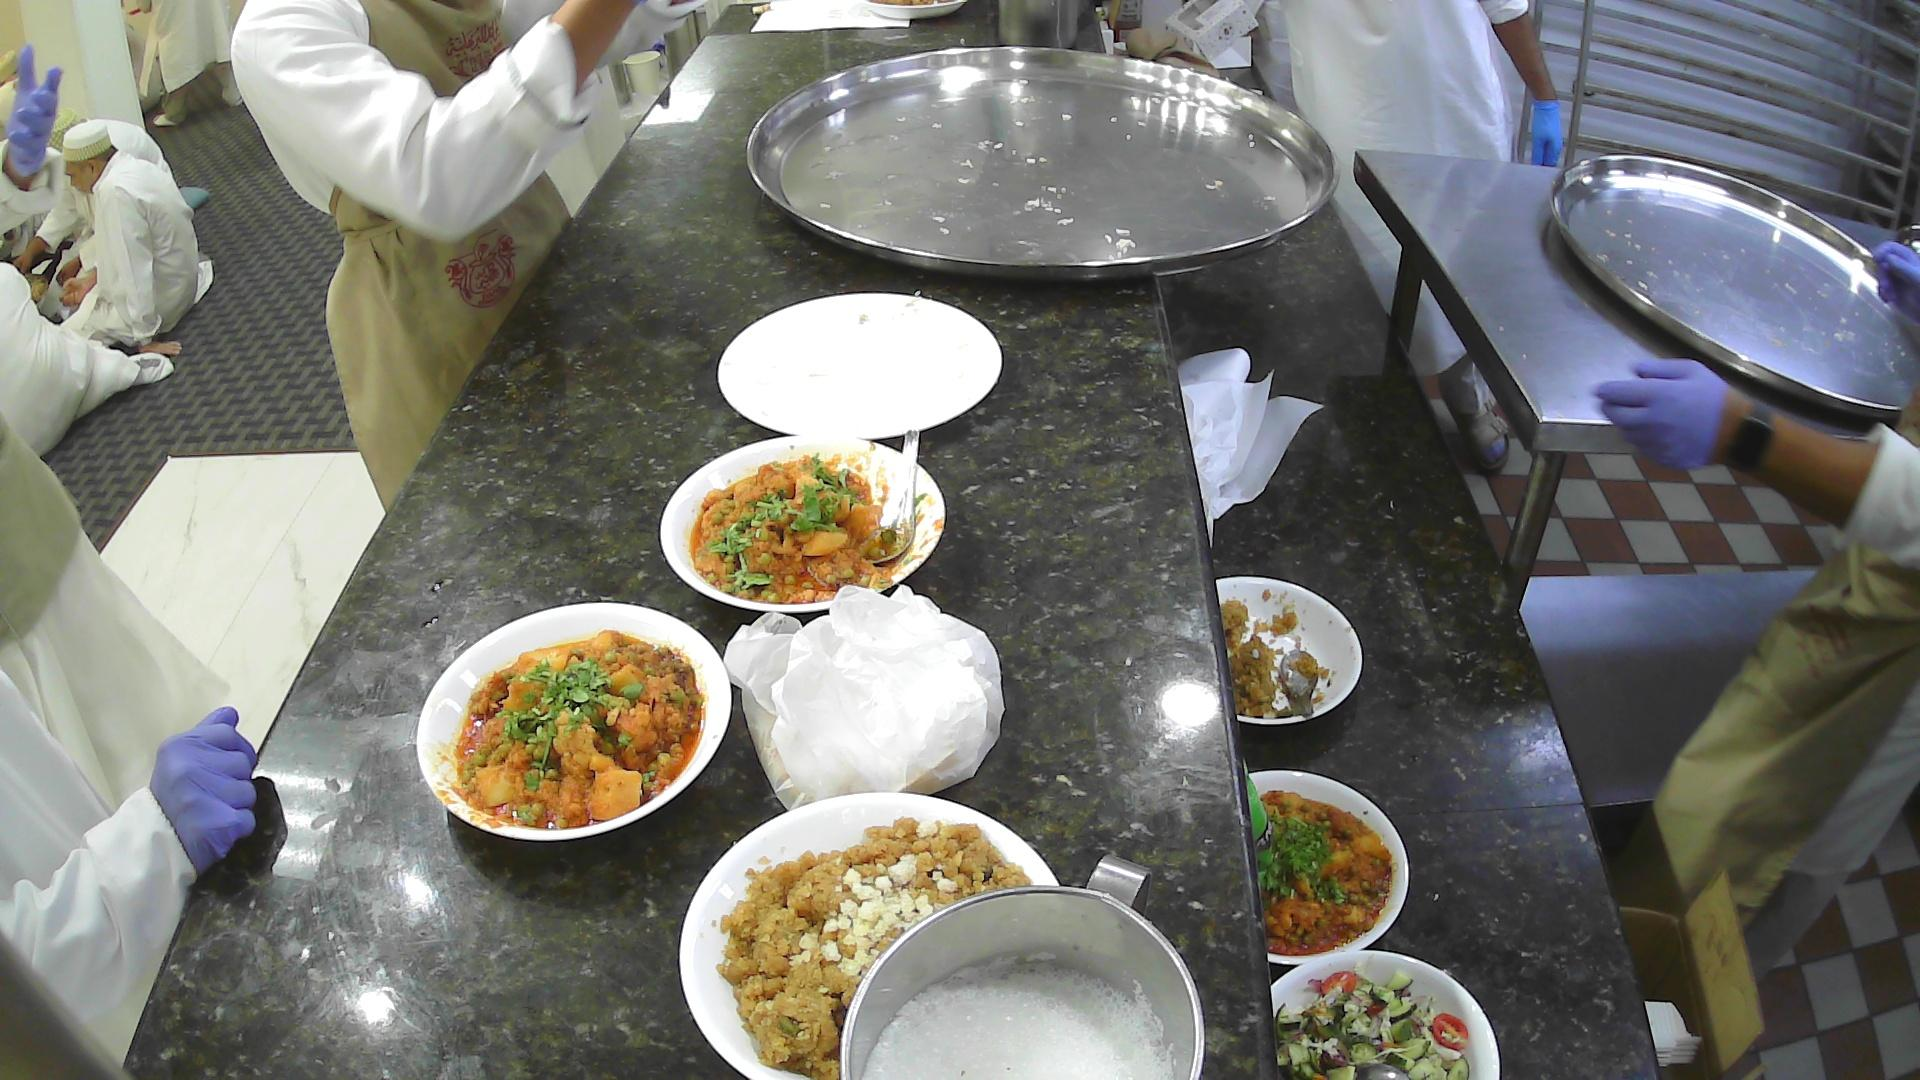thaal: (745, 44, 1341, 284), (1547, 153, 1920, 429)
